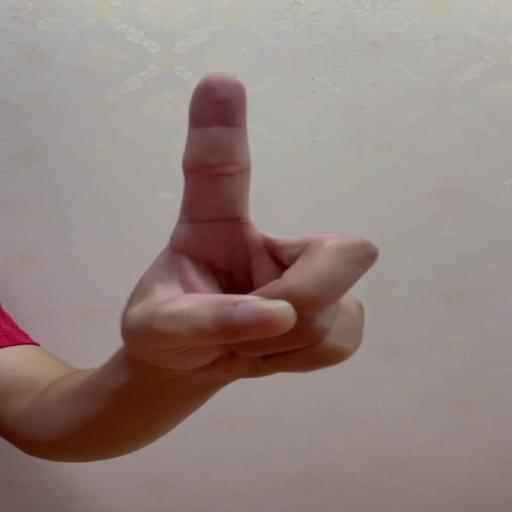point: (164, 72, 382, 378)
